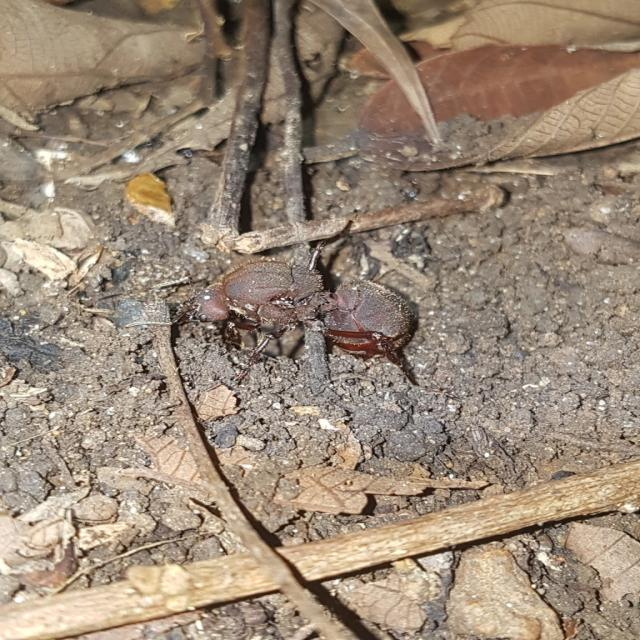Alive-Female-Dealate: (126, 210, 442, 393)
